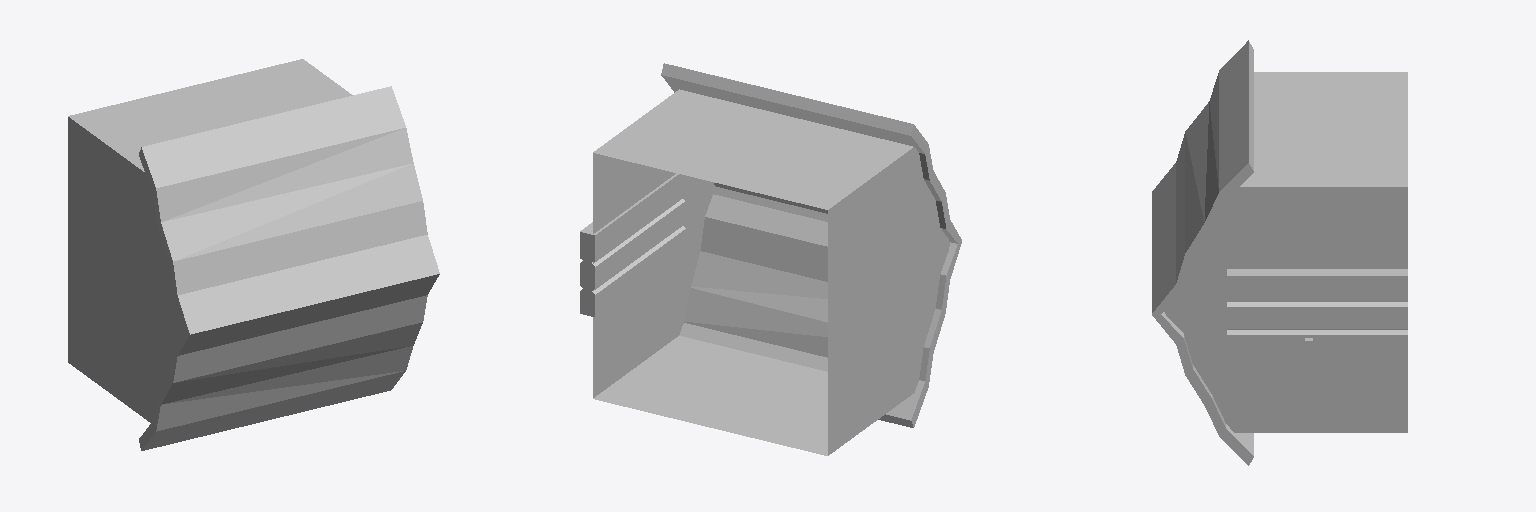
Rendered from hut.obj.
3 views of the same model, side by side, from view 1: azimuth 30°, elevation 25°; view 2: azimuth 150°, elevation 25°; view 3: azimuth 270°, elevation 25° (orthographic).
Parts seen in each view (by area): view 1: Roof, Walls; view 2: Walls, Roof, Door; view 3: Walls, Roof, Door.
Boxes of the visible parts, x1=… form: Roof: x1=139, y1=86, x2=439, y2=450; Walls: x1=68, y1=59, x2=352, y2=422; Walls: x1=593, y1=89, x2=949, y2=455; Roof: x1=661, y1=63, x2=961, y2=427; Door: x1=580, y1=173, x2=685, y2=316; Walls: x1=1164, y1=72, x2=1407, y2=432; Roof: x1=1152, y1=40, x2=1253, y2=465; Door: x1=1227, y1=269, x2=1407, y2=357.
Bounding box in the file's own units: 3.32 × 3.71 × 2.84.